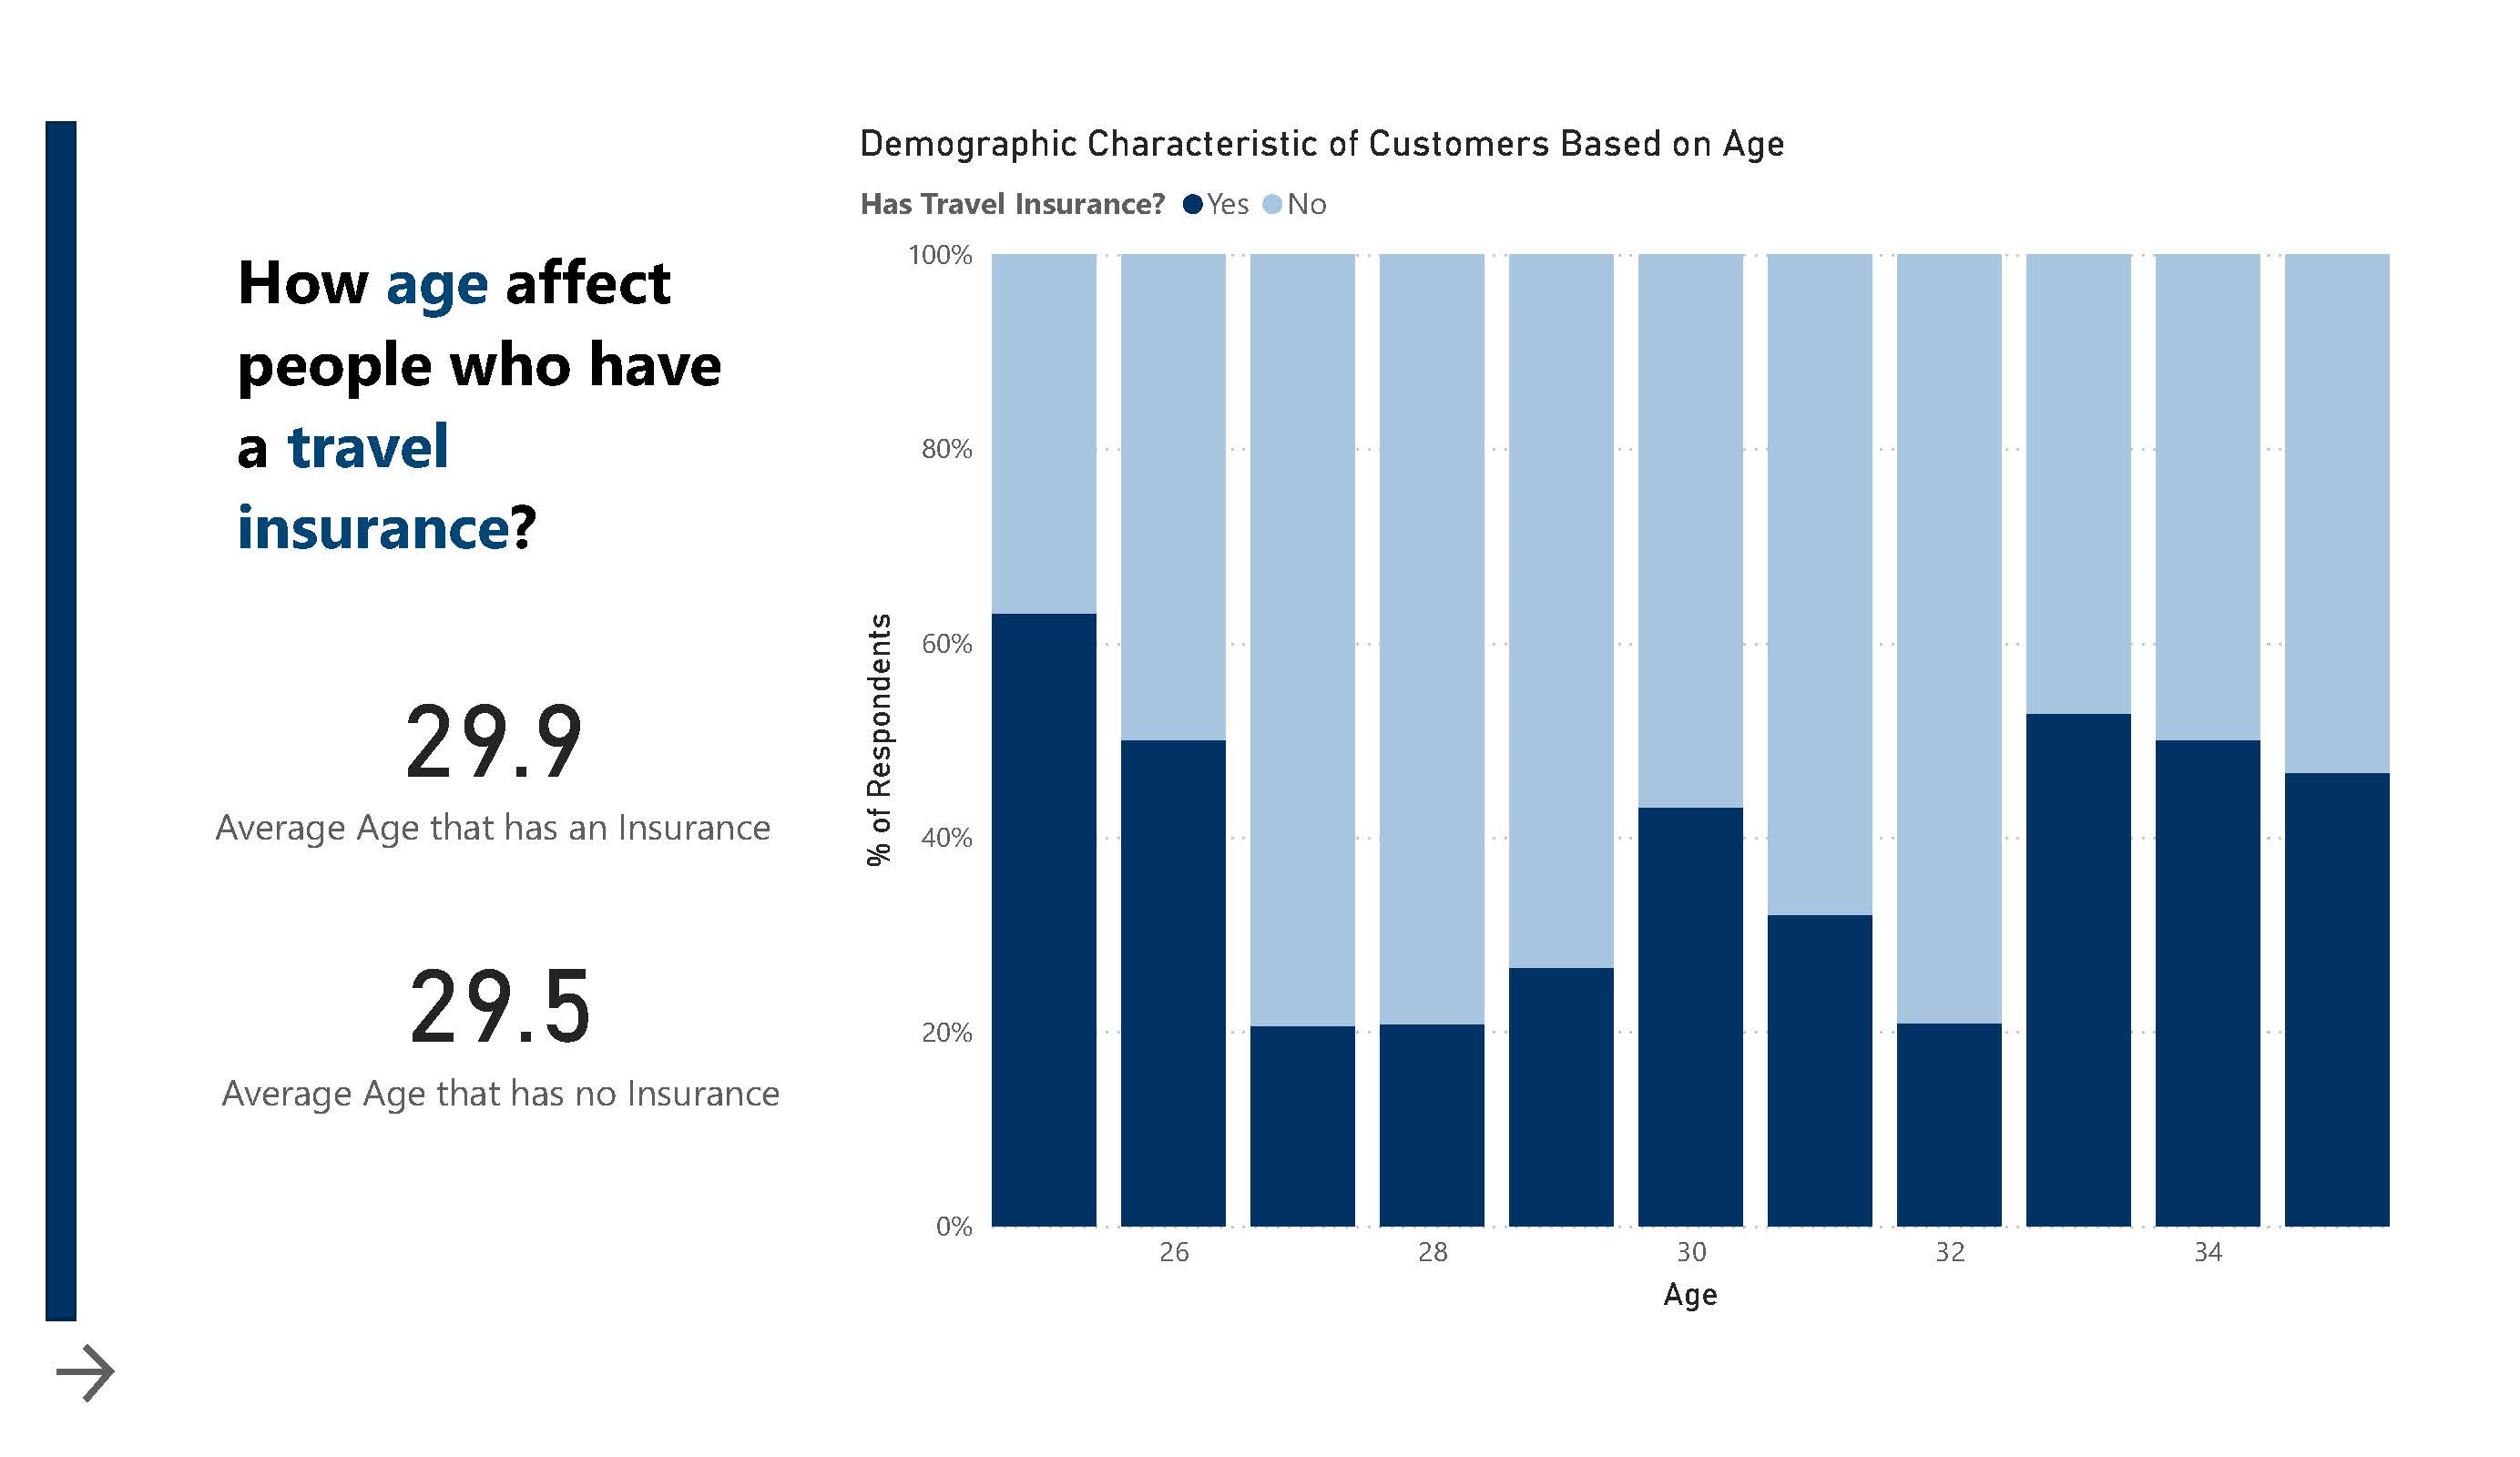

The dashboard page shown, as its layout file describes it:
{"tool":"powerbi","page":{"name":"Age","canvas":[1280,720],"ordinal":3},"visuals":[{"type":"hundredPercentStackedColumnChart","title":"Demographic Characteristic of Customers Based on Age","fields":{"Category":["travel_insurance.Age"],"Y":["travel_insurance.COUNT"],"Series":["travel_insurance.TravelInsurance"]},"box":[424,40,816,632],"z":0},{"type":"card","fields":{"Values":["Avg(travel_insurance.Age)"]},"box":[80,312,312,120],"z":1000},{"type":"card","fields":{"Values":["Avg(travel_insurance.Age)"]},"box":[80,456,320,112],"z":2000},{"type":"shape","box":[0,40,16,632],"z":3000},{"type":"textbox","box":[96,96,288,192],"z":4000},{"type":"actionButton","box":[0,680,48,40],"z":4001}]}

Visuals, with their boxes in screenshot pixels (x1, y1, x2, y2):
"Demographic Characteristic of Customers Based on Age" hundredPercentStackedColumnChart: box(850, 121, 2399, 1320)
card - Avg(travel_insurance.Age): box(198, 637, 790, 865)
card - Avg(travel_insurance.Age): box(198, 911, 804, 1123)
shape: box(46, 121, 76, 1320)
textbox: box(228, 228, 774, 592)
actionButton: box(46, 1336, 137, 1411)
